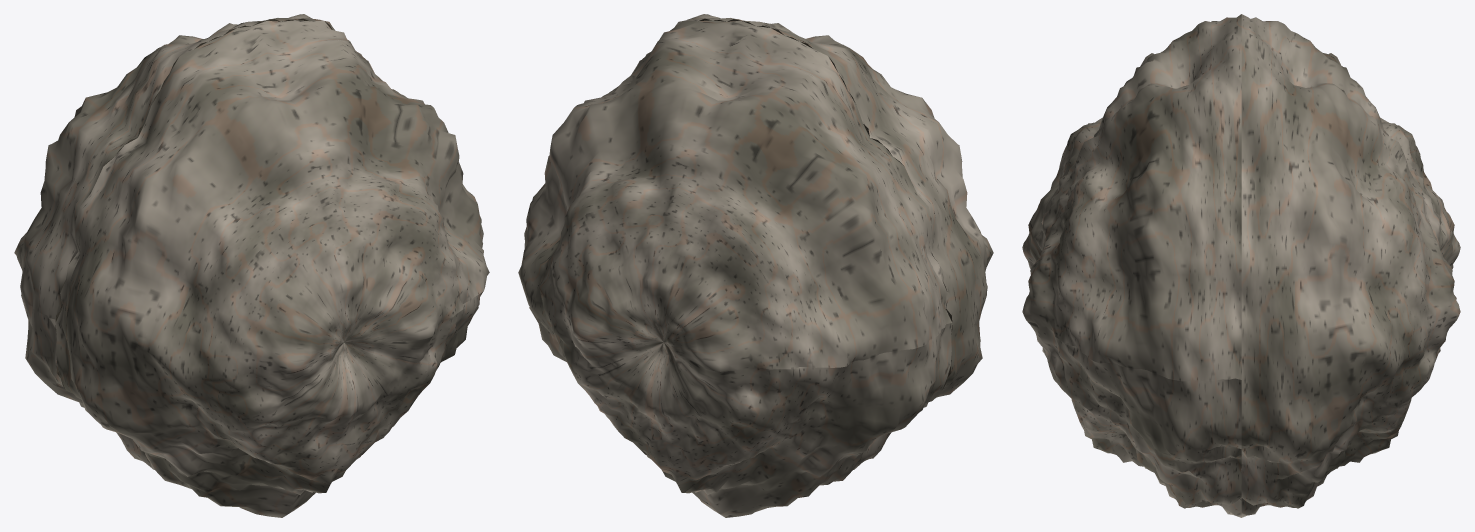
Rendered from pale-amethyst-study-v2.glb.
3 renders of one model, left to right at view 1: azimuth 30°, elevation 25°; view 2: azimuth 150°, elevation 25°; view 3: azimuth 270°, elevation 25°, orthographic.
Parts seen in each view (by area): view 1: Closed_front, Closed_back; view 2: Closed_back, Closed_front; view 3: Closed_front, Closed_back.
Part boxes in pixels (x1,y1,x2,y2): Closed_front: (55,20,489,517); Closed_back: (14,14,383,469); Closed_back: (518,20,952,517); Closed_front: (613,14,993,469); Closed_front: (1022,14,1241,517); Closed_back: (1241,14,1460,517).
Bounding box in the file's own units: 3.02 × 3.48 × 2.86.
Materials: 8 (3 with a texture image).
